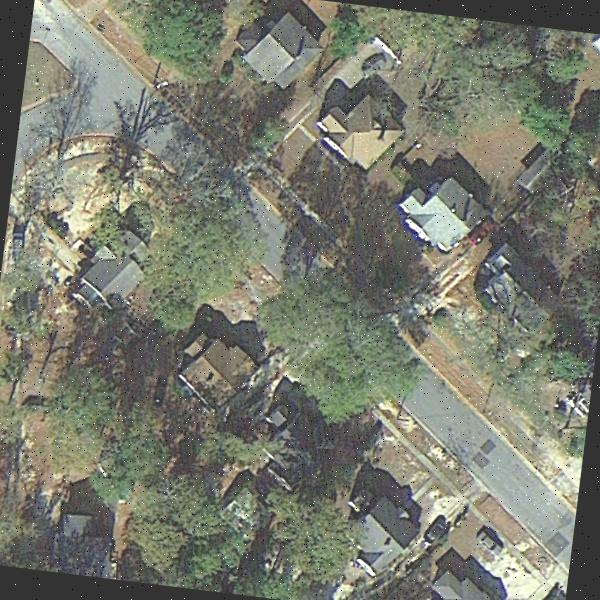Buildings: (404, 176, 494, 252), (479, 252, 560, 324), (245, 10, 317, 81), (179, 338, 252, 404), (320, 100, 393, 160), (349, 498, 418, 560), (79, 238, 138, 304), (262, 407, 311, 457), (429, 571, 504, 600)
